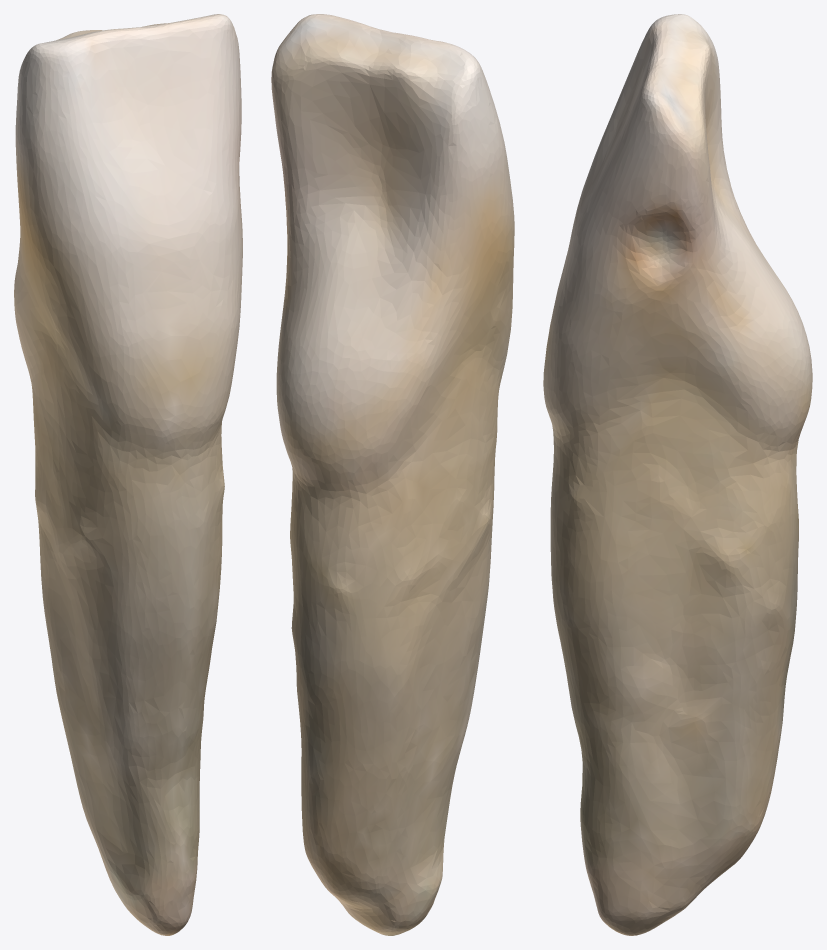
File: incisisor41.glb
3 renders of one model, left to right at view 1: azimuth 30°, elevation 25°; view 2: azimuth 150°, elevation 25°; view 3: azimuth 270°, elevation 25°, orthographic. The views are drawn at different scales.
Parts seen in each view (by area): view 1: Object_2; view 2: Object_2; view 3: Object_2.
Boxes of the visible parts, <box> form: Object_2: <box>14,14,242,935</box>; Object_2: <box>271,14,514,935</box>; Object_2: <box>543,14,812,935</box>.
Size of the model in its own units: 5.07 by 20.49 by 5.68.
Materials: 1 (1 with a texture image).
